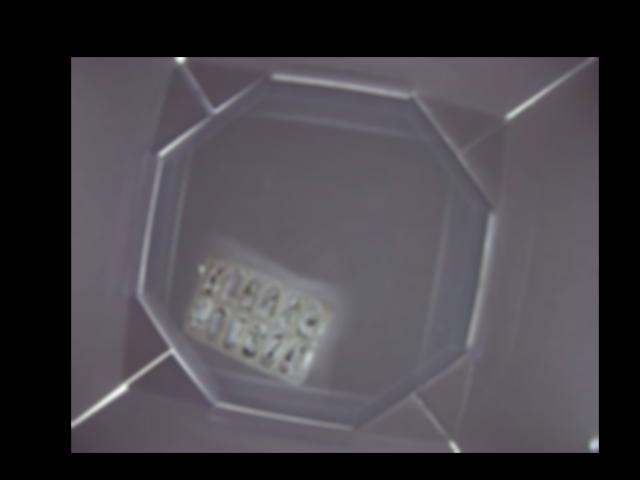Medicine: (183, 258, 336, 386)
